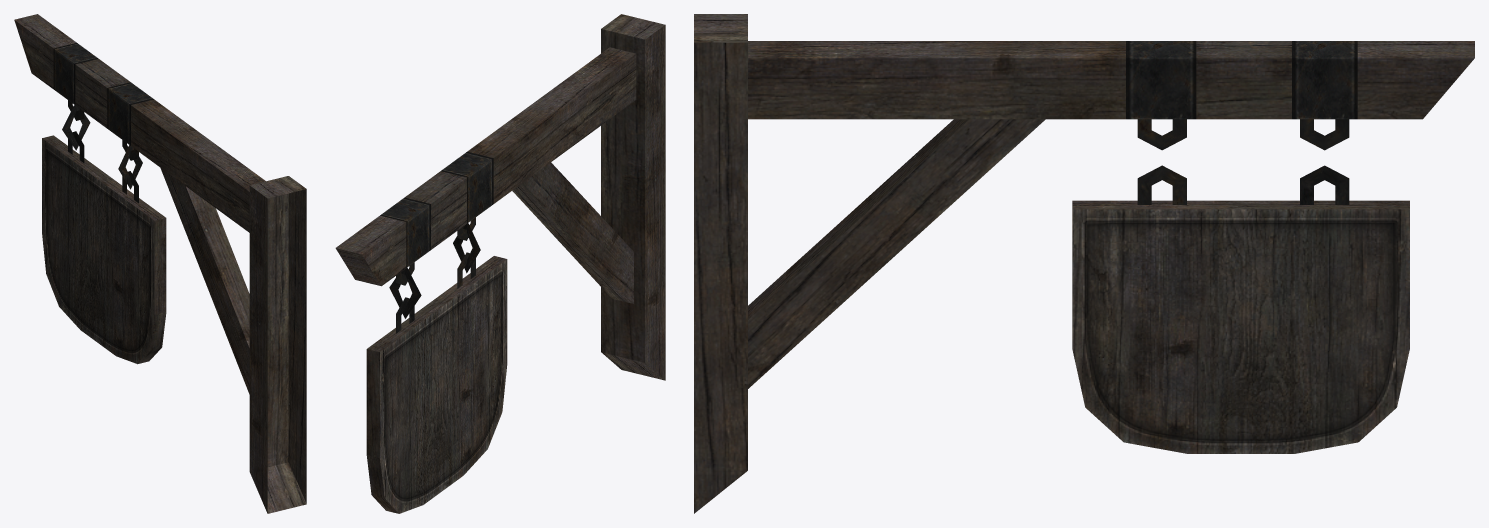
Rendered from Signboard1A_LOD1.fbx.
3 views of the same model, side by side, from view 1: azimuth 30°, elevation 25°; view 2: azimuth 150°, elevation 25°; view 3: azimuth 270°, elevation 25° (orthographic). The views are drawn at different scales.
Visible parts, largest first — view 1: polySurface188; view 2: polySurface188; view 3: polySurface188.
Boxes of the visible parts, bbox=[...] form: polySurface188: bbox=[14, 14, 306, 513]; polySurface188: bbox=[335, 14, 665, 513]; polySurface188: bbox=[694, 14, 1474, 513].
Size of the model in its own units: 0.843 by 6.5 by 9.75.
